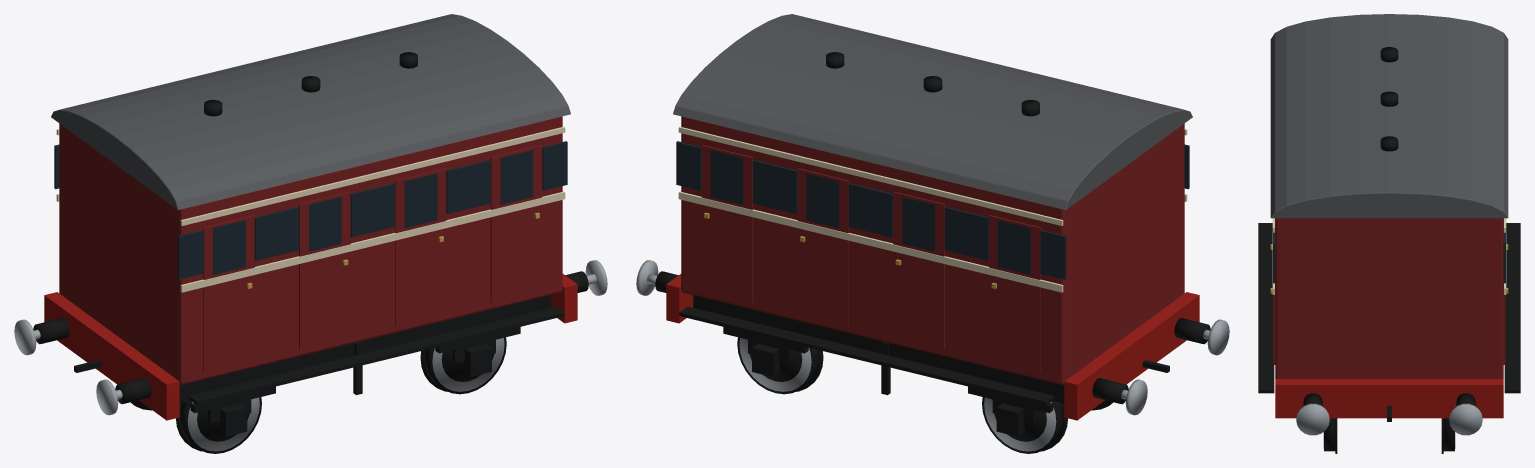
File: passenger_carriage.glb
3 views of the same model, side by side, from view 1: azimuth 30°, elevation 25°; view 2: azimuth 150°, elevation 25°; view 3: azimuth 270°, elevation 25° (orthographic). The views are drawn at different scales.
Visible parts, largest first — view 1: teto, caixa, porta.007, porta.005, porta.006, porta.004, viga.001, longarina.001, estribo.001, friso_creme.001, friso_creme2.001, janela_porta.007 (+26 smaller); view 2: teto, caixa, porta.003, porta.001, porta.002, porta, viga.001, longarina, estribo, friso_creme, friso_creme2, janela_porta.003 (+26 smaller); view 3: teto, caixa, viga, estribo, estribo.001, buffer_cabeca, buffer_cabeca.001, roda_roda1, roda_roda-1.
Boxes of the visible parts, x1,y1,x2,y2 form: teto: [51, 14, 570, 209]; caixa: [59, 116, 562, 384]; porta.007: [490, 145, 542, 302]; porta.005: [299, 191, 350, 349]; porta.006: [395, 168, 446, 326]; porta.004: [203, 215, 254, 372]; viga.001: [44, 292, 179, 420]; longarina.001: [179, 295, 550, 403]; estribo.001: [189, 306, 564, 405]; friso_creme.001: [180, 191, 565, 292]; friso_creme2.001: [180, 126, 565, 225]; janela_porta.007: [500, 150, 533, 204]; teto: [673, 14, 1192, 209]; caixa: [681, 116, 1184, 384]; porta.003: [701, 145, 753, 302]; porta.001: [893, 191, 944, 349]; porta.002: [797, 168, 848, 326]; porta: [989, 215, 1040, 372]; viga.001: [1064, 292, 1199, 420]; longarina: [693, 295, 1064, 403]; estribo: [679, 306, 1054, 405]; friso_creme: [678, 191, 1063, 292]; friso_creme2: [678, 126, 1063, 225]; janela_porta.003: [710, 150, 743, 204]; teto: [1270, 14, 1508, 218]; caixa: [1275, 218, 1503, 378]; viga: [1275, 379, 1503, 418]; estribo: [1504, 223, 1520, 393]; estribo.001: [1258, 223, 1274, 393]; buffer_cabeca: [1449, 403, 1482, 435]; buffer_cabeca.001: [1296, 403, 1329, 435]; roda_roda1: [1443, 418, 1454, 451]; roda_roda-1: [1324, 418, 1335, 451].
Bounding box in the file's own units: 6.05 × 3.75 × 2.98.
